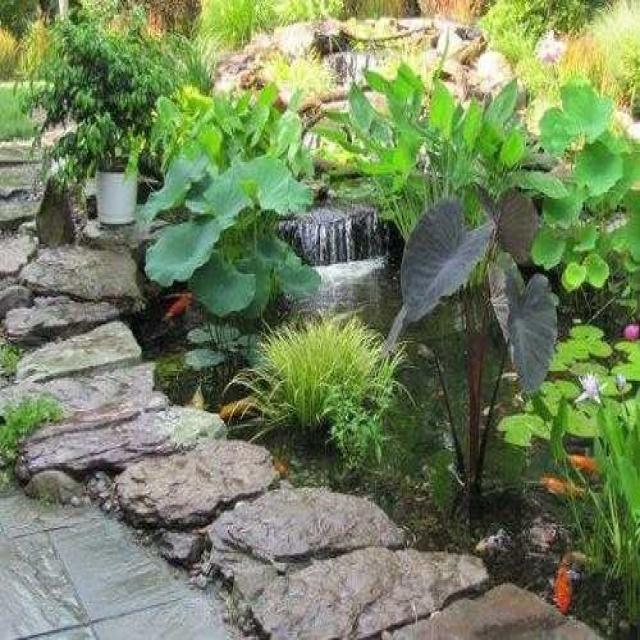Ponds: (1, 138, 640, 640)
